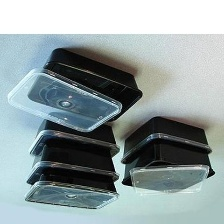plastic_box: (0, 42, 148, 138), (18, 108, 123, 216), (114, 110, 220, 202)
